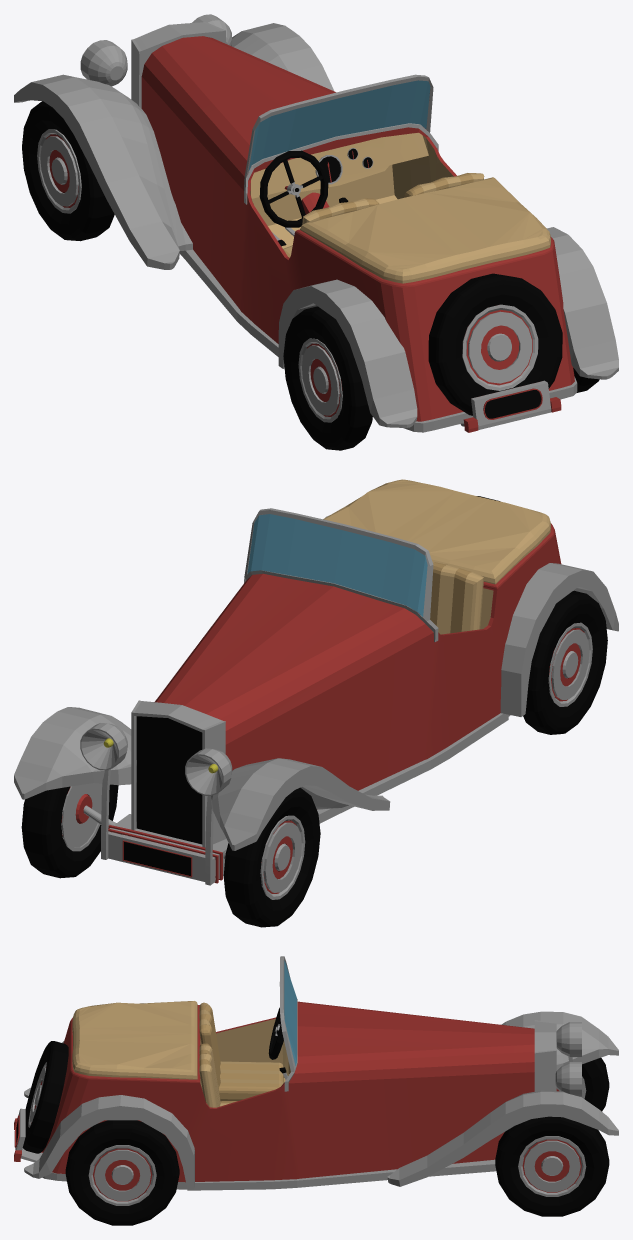
File: old-sportcar.glb
3 views of the same model, one above another, from view 1: azimuth 30°, elevation 25°; view 2: azimuth 150°, elevation 25°; view 3: azimuth 270°, elevation 25° (orthographic). The views are drawn at different scales.
Visible parts, largest first — view 1: HRG Sports car 1948; view 2: HRG Sports car 1948; view 3: HRG Sports car 1948.
Part boxes in pixels (x1,y1,x2,y2): HRG Sports car 1948: (14,14,618,450); HRG Sports car 1948: (14,479,618,927); HRG Sports car 1948: (14,956,618,1225).
Bounding box in the file's own units: 2.19 × 2.03 × 5.71.
